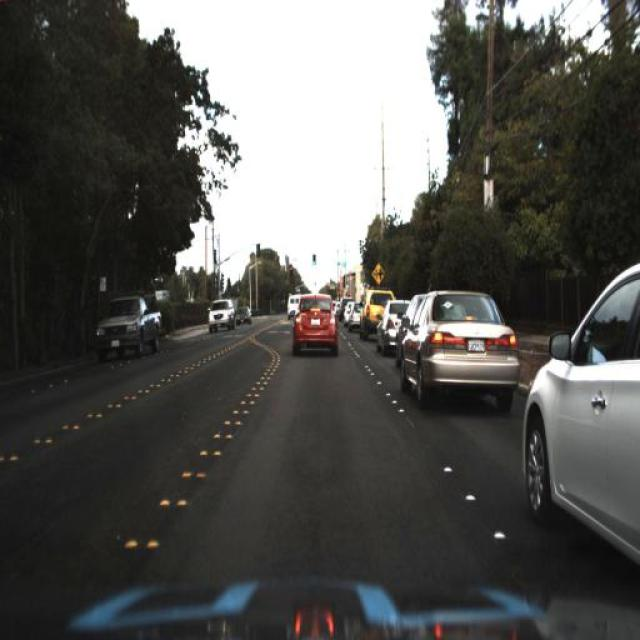car: (521, 257, 640, 581), (396, 287, 518, 421), (89, 285, 166, 365), (283, 285, 346, 370), (204, 296, 237, 336), (378, 298, 398, 362), (358, 288, 381, 339), (233, 299, 254, 326)
